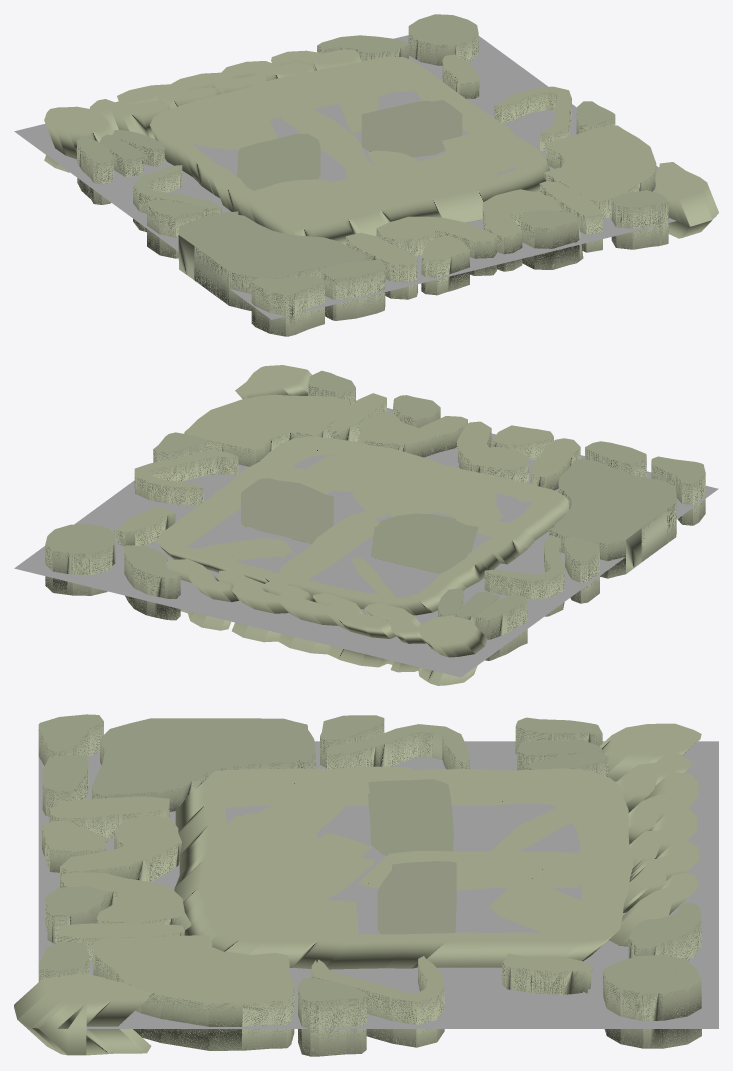
3 views of the same model, one above another, from view 1: azimuth 30°, elevation 25°; view 2: azimuth 150°, elevation 25°; view 3: azimuth 270°, elevation 25° (orthographic). The views are drawn at different scales.
Visible parts, largest first — view 1: Stone_B1, pPlane2; view 2: Stone_B1, pPlane2; view 3: Stone_B1, pPlane2.
Boxes of the visible parts, x1,y1,x2,y2 form: Stone_B1: [44, 14, 718, 336]; pPlane2: [14, 35, 676, 319]; Stone_B1: [45, 365, 705, 685]; pPlane2: [14, 400, 718, 677]; Stone_B1: [14, 714, 701, 1056]; pPlane2: [38, 741, 718, 1028].
Bounding box in the file's own units: 23.88 × 2.98 × 24.72.
